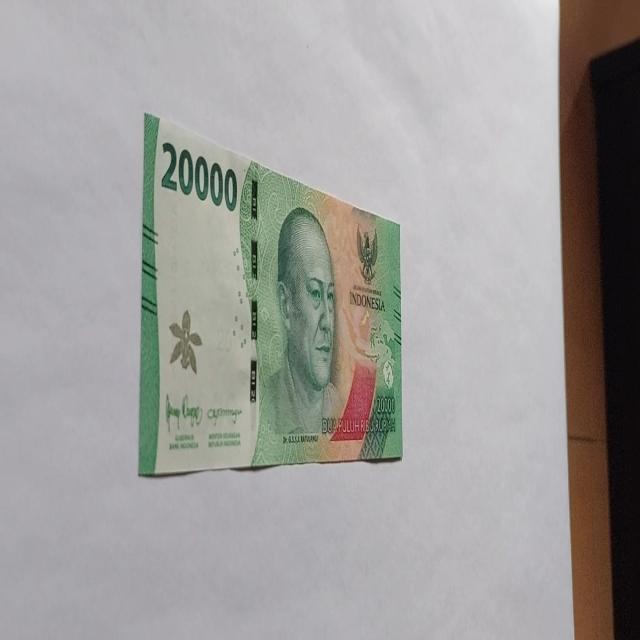dua puluh ribu rupiah: (137, 111, 403, 477), (250, 202, 378, 466)
